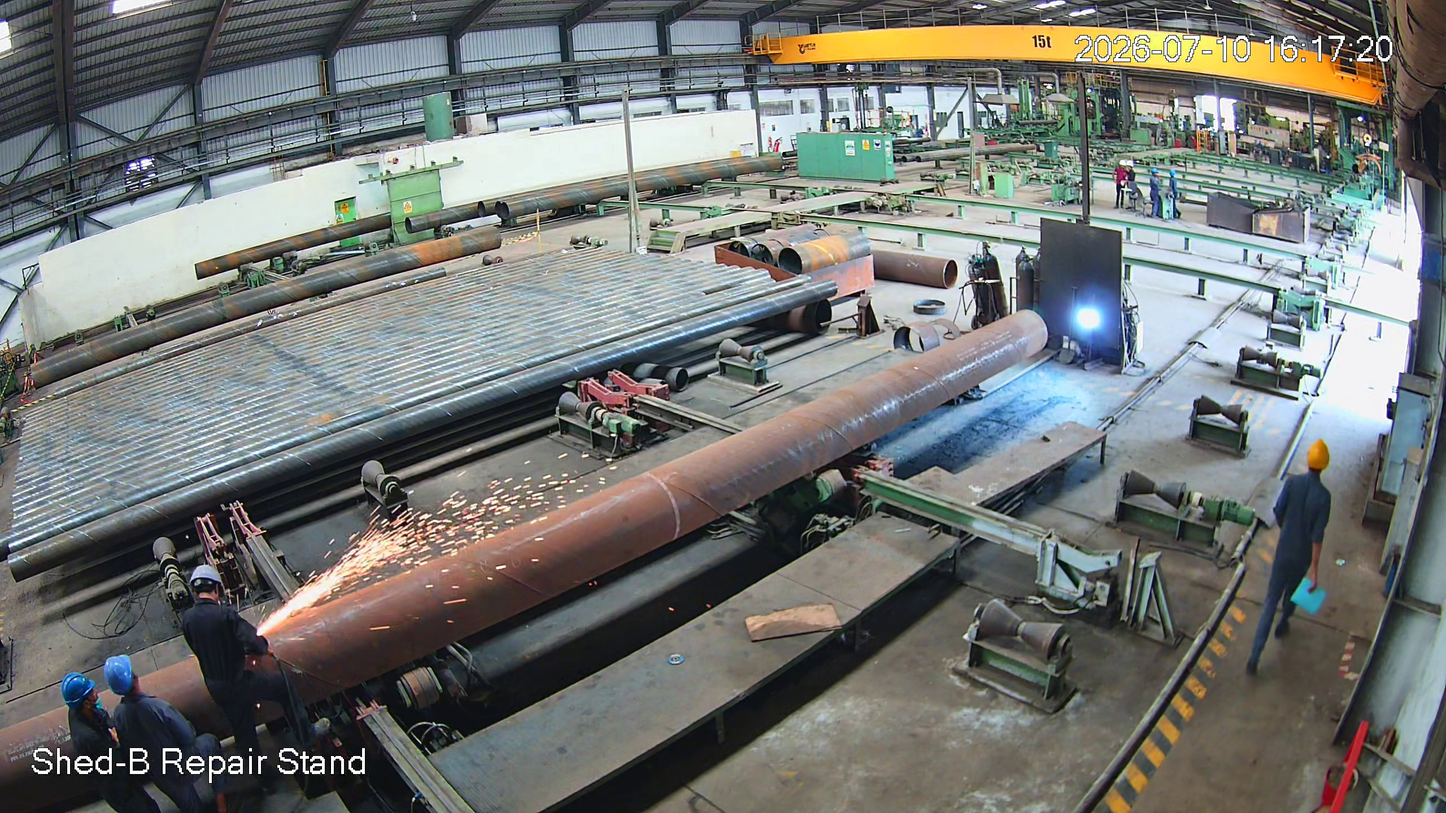Helmet: (176, 562, 251, 644), (93, 640, 155, 726), (1294, 434, 1349, 488), (55, 668, 96, 738), (1126, 160, 1135, 173), (1151, 167, 1160, 179), (1169, 169, 1177, 179), (1119, 159, 1127, 169)
Person: (176, 572, 311, 780), (1242, 436, 1347, 702), (97, 647, 211, 813), (41, 675, 143, 813), (1168, 169, 1186, 222), (1149, 168, 1163, 220), (1116, 161, 1127, 207), (1126, 160, 1137, 187)
